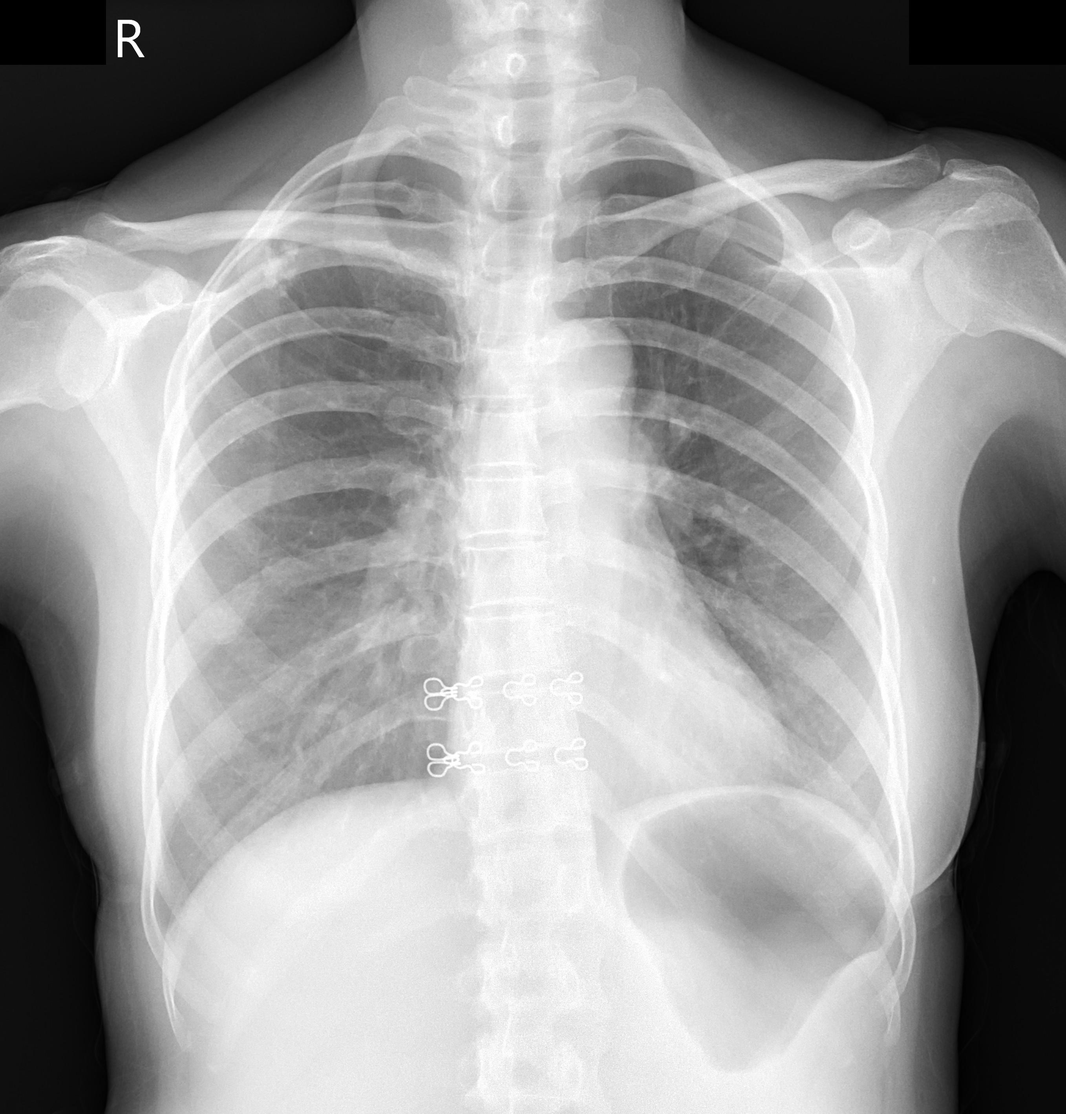Pulmonary fibrosis: (260, 233, 301, 296)
